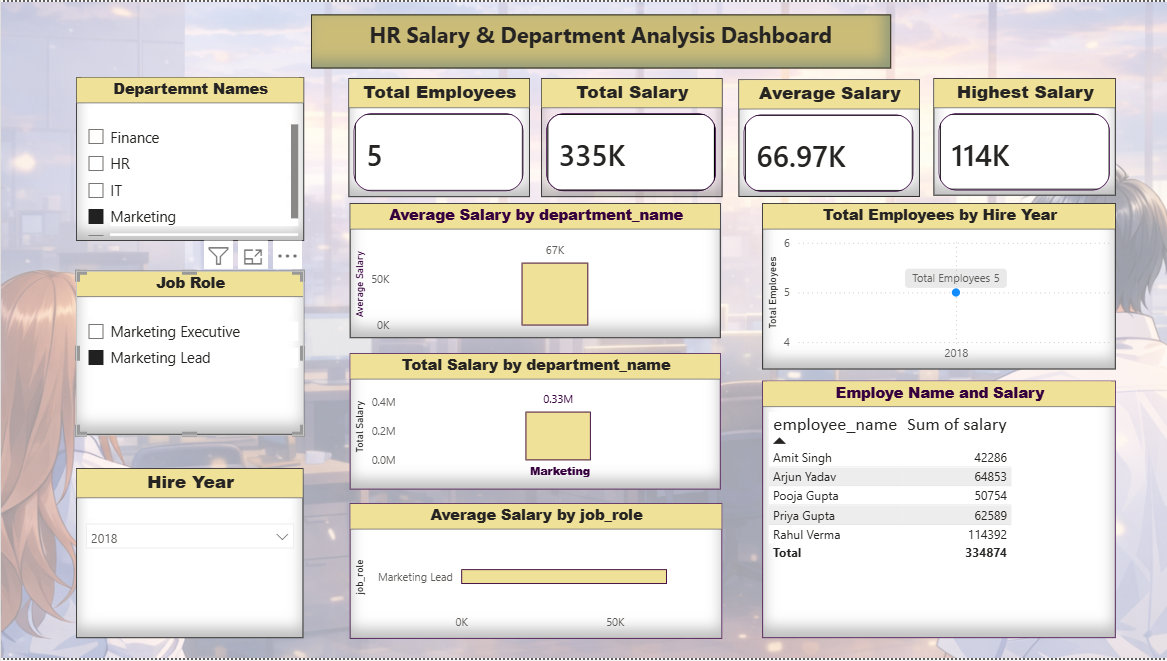

The dashboard page shown, as its layout file describes it:
{"tool":"powerbi","page":{"name":"Page 1","canvas":[1280,720],"ordinal":0},"visuals":[{"type":"cardVisual","title":"Total Employees","fields":{"Data":["employee_analysis_large departments.Total Employees"]},"box":[381.8,83.2,199,130.4],"z":0},{"type":"cardVisual","title":"Total Salary","fields":{"Data":["employee_analysis_large departments.Total Salary"]},"box":[592.5,83.2,199,130.4],"z":1000},{"type":"cardVisual","title":"Average Salary","fields":{"Data":["employee_analysis_large departments.Average Salary"]},"box":[809.9,84.5,199,129],"z":2000},{"type":"cardVisual","title":"Highest Salary","fields":{"Data":["employee_analysis_large departments.Highest Salary"]},"box":[1023.9,83.2,200.3,129],"z":3000},{"type":"clusteredColumnChart","fields":{"Category":["employee_analysis_large departments.department_name"],"Y":["employee_analysis_large departments.Average Salary"]},"box":[382.8,220.9,407.5,148.2],"z":4000},{"type":"clusteredColumnChart","fields":{"Category":["employee_analysis_large departments.department_name"],"Y":["employee_analysis_large departments.Total Salary"]},"box":[382.8,385.6,407.5,149.6],"z":5000},{"type":"clusteredBarChart","fields":{"Category":["employee_analysis_large employees.job_role"],"Y":["employee_analysis_large departments.Average Salary"]},"box":[382.4,549.8,408.6,148.6],"z":6000},{"type":"lineChart","fields":{"Category":["employee_analysis_large employees.Hire Year"],"Y":["employee_analysis_large departments.Total Employees"]},"box":[835.7,220.9,388.3,182.5],"z":7000},{"type":"tableEx","title":"Employe Name and Salary","fields":{"Values":["employee_analysis_large employees.employee_name","Sum(employee_analysis_large employees.salary)"]},"box":[835.7,415.8,388.3,282.7],"z":8000},{"type":"slicer","title":"Departemnt Names","fields":{"Values":["employee_analysis_large departments.department_name"]},"box":[82.4,82.6,250,180],"z":9000},{"type":"slicer","title":"Job Role","fields":{"Values":["employee_analysis_large employees.job_role"]},"box":[82.4,295.5,250,180],"z":10000},{"type":"slicer","title":"Hire Year","fields":{"Values":["employee_analysis_large employees.Hire Year"]},"box":[82.3,511.8,249.7,186.6],"z":11000},{"type":"textbox","box":[340,13.7,636.7,59],"z":12000}]}

Visuals, with their boxes in screenshot pixels (x1, y1, x2, y2), scaled from the page's 1280x720 canvas onto the 1167x661 screenshot:
"Total Employees" cardVisual: x1=348 y1=76 x2=530 y2=196
"Total Salary" cardVisual: x1=540 y1=76 x2=722 y2=196
"Average Salary" cardVisual: x1=738 y1=78 x2=920 y2=196
"Highest Salary" cardVisual: x1=934 y1=76 x2=1116 y2=195
clusteredColumnChart - employee_analysis_large departments.department_name x employee_analysis_large departments.Average Salary: x1=349 y1=203 x2=721 y2=339
clusteredColumnChart - employee_analysis_large departments.department_name x employee_analysis_large departments.Total Salary: x1=349 y1=354 x2=721 y2=491
clusteredBarChart - employee_analysis_large employees.job_role x employee_analysis_large departments.Average Salary: x1=349 y1=505 x2=721 y2=641
lineChart - employee_analysis_large employees.Hire Year x employee_analysis_large departments.Total Employees: x1=762 y1=203 x2=1116 y2=370
"Employe Name and Salary" tableEx: x1=762 y1=382 x2=1116 y2=641
"Departemnt Names" slicer: x1=75 y1=76 x2=303 y2=241
"Job Role" slicer: x1=75 y1=271 x2=303 y2=437
"Hire Year" slicer: x1=75 y1=470 x2=303 y2=641
textbox: x1=310 y1=13 x2=890 y2=67
